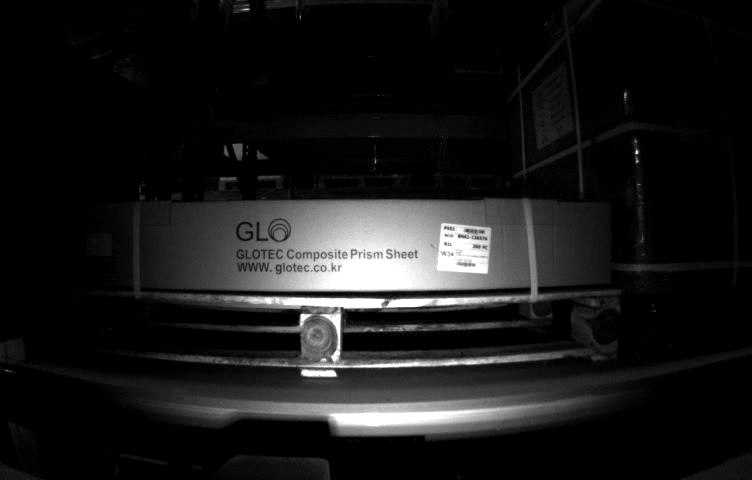True Barcode: (433, 219, 490, 274)
